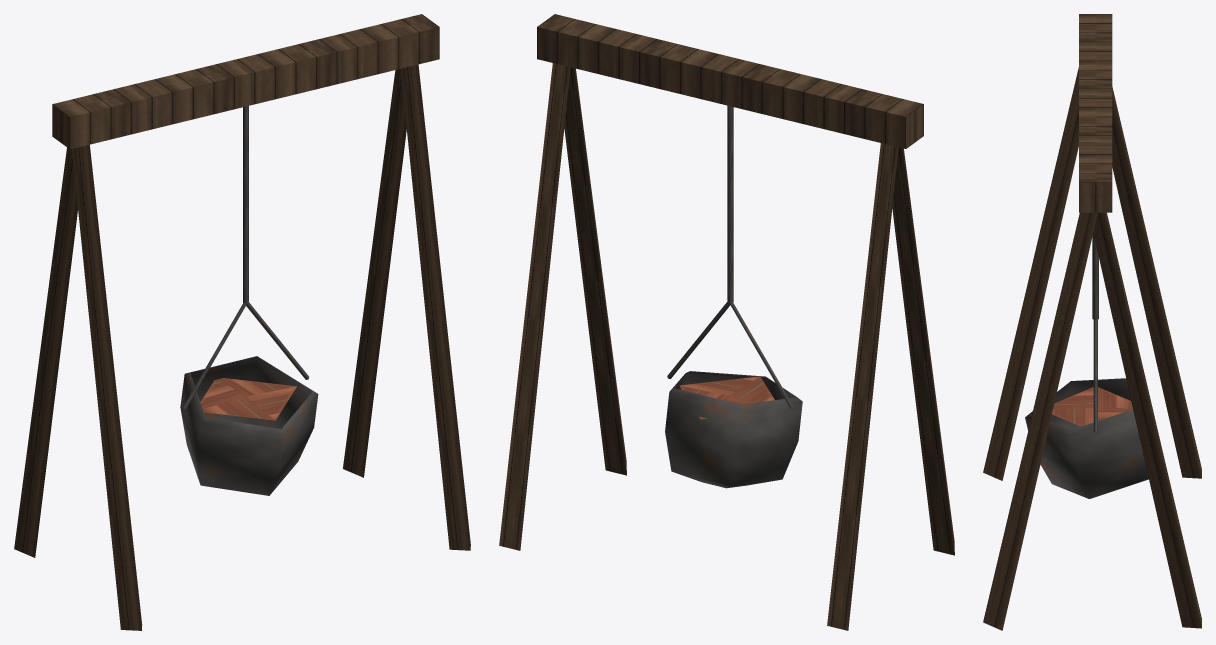
The model's file is Crucible_Hanging_1_LOD2.gltf.
3 views of the same model, side by side, from view 1: azimuth 30°, elevation 25°; view 2: azimuth 150°, elevation 25°; view 3: azimuth 270°, elevation 25° (orthographic). The views are drawn at different scales.
Visible parts, largest first — view 1: Crucible_Hanging_1_LOD2; view 2: Crucible_Hanging_1_LOD2; view 3: Crucible_Hanging_1_LOD2.
Part boxes in pixels (bbox=[...]): Crucible_Hanging_1_LOD2: bbox=[14, 14, 470, 630]; Crucible_Hanging_1_LOD2: bbox=[499, 14, 954, 630]; Crucible_Hanging_1_LOD2: bbox=[983, 14, 1201, 630].
Size of the model in its own units: 3.6 by 4.52 by 1.98.
Materials: 3 (3 with a texture image).
